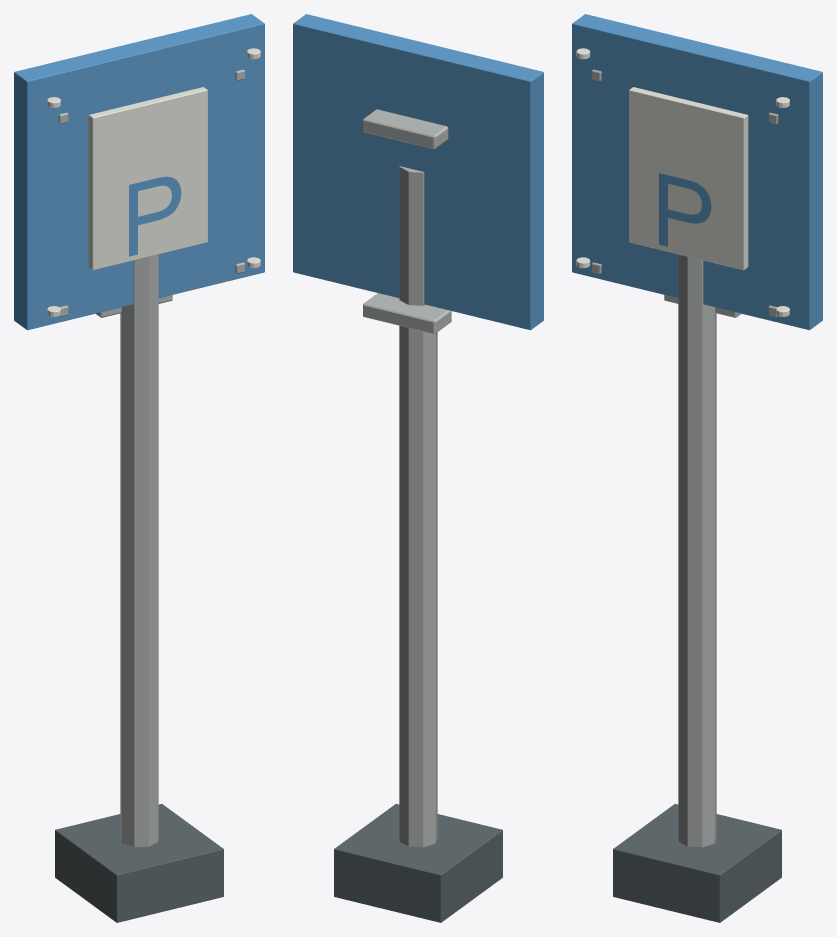
The model's file is Parking_Sign.fbx.
The picture shows the model from 3 angles, left to right: view 1: azimuth 30°, elevation 25°; view 2: azimuth 150°, elevation 25°; view 3: azimuth 330°, elevation 25°; orthographic projection.
Visible parts, largest first — view 1: Parking_Sign__LPCXFER; view 2: Parking_Sign__LPCXFER; view 3: Parking_Sign__LPCXFER.
Boxes of the visible parts, left/top/right/bottom form: Parking_Sign__LPCXFER: left=14, top=14, right=264, bottom=922; Parking_Sign__LPCXFER: left=293, top=14, right=543, bottom=922; Parking_Sign__LPCXFER: left=572, top=14, right=822, bottom=922.
Size of the model in its own units: 62 by 209 by 28.
